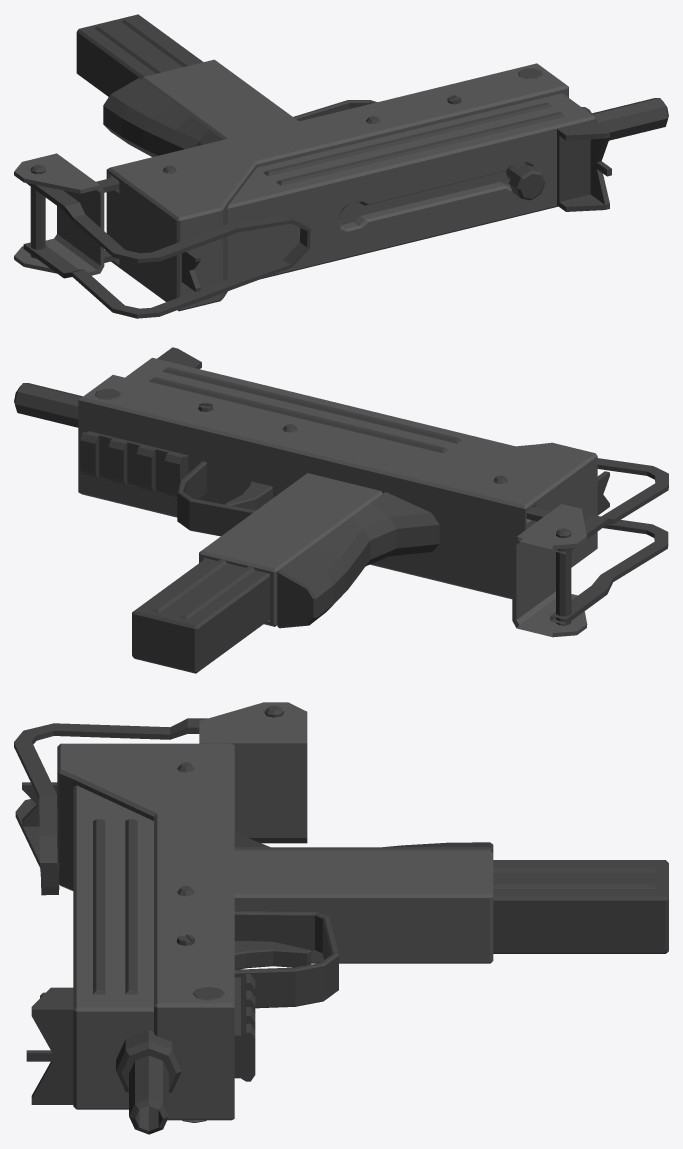
The model's file is SMG.glb.
3 views of the same model, one above another, from view 1: azimuth 30°, elevation 25°; view 2: azimuth 150°, elevation 25°; view 3: azimuth 270°, elevation 25° (orthographic). The views are drawn at different scales.
Visible parts, largest first — view 1: SMG; view 2: SMG; view 3: SMG.
Boxes of the visible parts, x1,y1,x2,y2 form: SMG: (14,14,668,318); SMG: (14,347,668,673); SMG: (14,702,668,1134).
Size of the model in its own units: 0.3148 by 0.0519 by 0.2412.
Materials: 1 (1 with a texture image).
